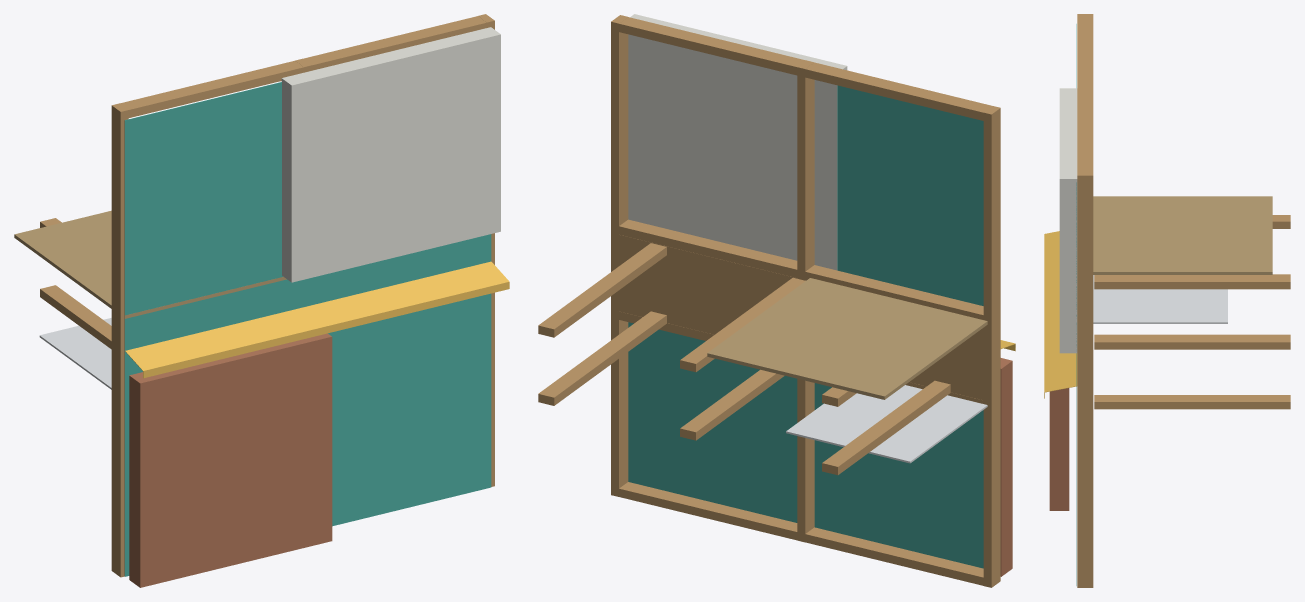
File: floor-edge.glb
3 renders of one model, left to right at view 1: azimuth 30°, elevation 25°; view 2: azimuth 150°, elevation 25°; view 3: azimuth 270°, elevation 25°, orthographic. The views are drawn at different scales.
Visible parts, largest first — view 1: wrap.002, foam, brick.001, frame.002, transition, deck, joists, lining.001; view 2: wrap.002, frame.002, foam, joists, deck, lining.001, brick.001; view 3: deck, joists, frame.002, foam, lining.001, transition, brick.001, wrap.002.
Part boxes in pixels (x1,y1,x2,y2): wrap.002: (124, 82, 491, 576); foam: (281, 27, 500, 282); brick.001: (129, 333, 332, 587); frame.002: (111, 14, 494, 577); transition: (125, 261, 509, 378); deck: (14, 210, 286, 318); joists: (40, 218, 494, 394); lining.001: (39, 318, 111, 389); wrap.002: (628, 85, 983, 568); frame.002: (611, 15, 1000, 587); foam: (628, 14, 847, 270); joists: (538, 233, 1000, 475); deck: (707, 278, 987, 399); lining.001: (786, 385, 987, 463); brick.001: (1000, 358, 1012, 576); deck: (1093, 196, 1272, 274); joists: (1077, 215, 1290, 426); frame.002: (1077, 14, 1093, 587); foam: (1059, 88, 1077, 353); lining.001: (1093, 275, 1227, 323); transition: (1044, 231, 1077, 398); brick.001: (1049, 388, 1069, 510); wrap.002: (1076, 24, 1076, 585).
Bounding box in the file's own units: 2.14 × 2.55 × 1.38.
